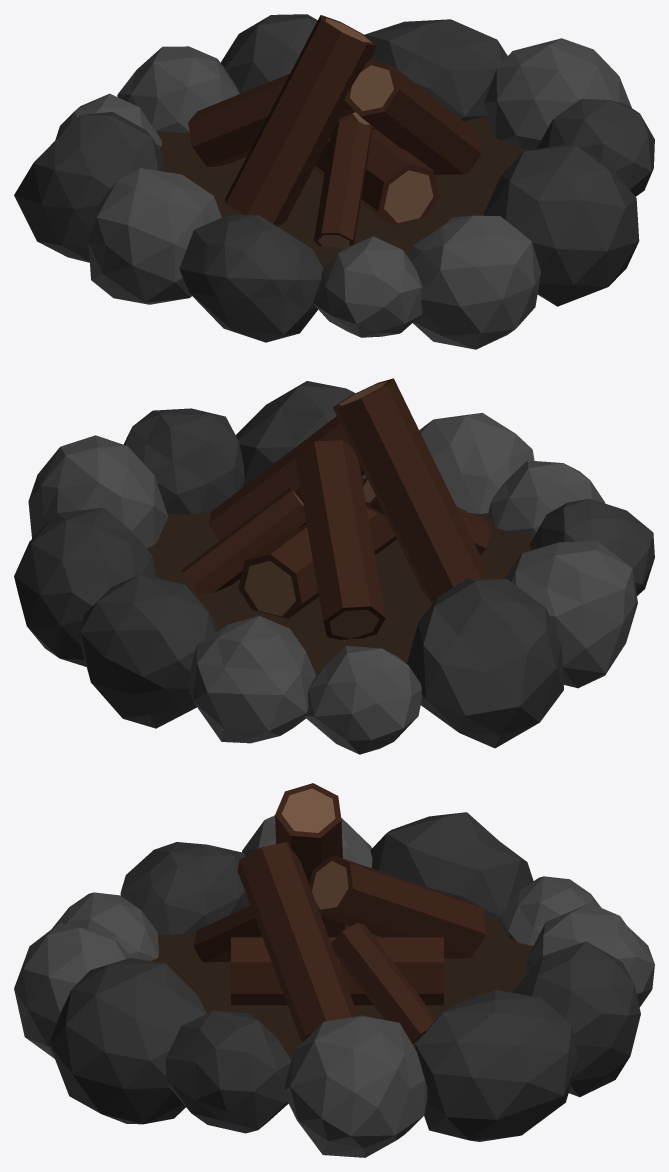
The model's file is Campfire.fbx.
The picture shows the model from 3 angles, top to bottom: view 1: azimuth 30°, elevation 25°; view 2: azimuth 150°, elevation 25°; view 3: azimuth 270°, elevation 25°; orthographic projection. The views are drawn at different scales.
Parts seen in each view (by area): view 1: Icosphere.001, Icosphere, Cylinder.002, Icosphere.006, Icosphere.007, Icosphere.008, Circle, Icosphere.004, Icosphere.005, Icosphere.003, Cylinder.003, Icosphere.010 (+6 smaller); view 2: Icosphere.008, Cylinder.002, Icosphere.011, Circle, Icosphere.005, Icosphere.010, Cylinder.001, Icosphere.007, Icosphere.004, Icosphere.009, Icosphere.002, Icosphere (+7 smaller); view 3: Icosphere.005, Icosphere.001, Icosphere.004, Icosphere.002, Cylinder.003, Icosphere.011, Icosphere.008, Cylinder.001, Circle, Icosphere.006, Icosphere, Cylinder (+7 smaller).
Part boxes in pixels (box(x1,y1,x2,y2)): Icosphere.001: box(483, 144, 639, 306); Icosphere: box(407, 215, 541, 349); Cylinder.002: box(225, 15, 377, 226); Icosphere.006: box(179, 215, 323, 342); Icosphere.007: box(88, 168, 221, 304); Icosphere.008: box(14, 112, 163, 262); Circle: box(156, 115, 530, 268); Icosphere.004: box(484, 38, 631, 150); Icosphere.005: box(365, 19, 507, 121); Icosphere.003: box(313, 236, 422, 337); Cylinder.003: box(344, 59, 481, 174); Icosphere.010: box(117, 46, 239, 132); Icosphere.008: box(407, 578, 563, 748); Cylinder.002: box(332, 378, 488, 603); Icosphere.011: box(80, 575, 217, 728); Circle: box(147, 508, 533, 675); Icosphere.005: box(14, 507, 157, 666); Icosphere.010: box(187, 616, 316, 743); Cylinder.001: box(295, 440, 385, 639); Icosphere.007: box(505, 541, 637, 688); Icosphere.004: box(28, 435, 168, 548); Icosphere.009: box(305, 646, 422, 754); Icosphere.002: box(123, 408, 244, 514); Icosphere: box(419, 413, 534, 513); Icosphere.005: box(415, 990, 577, 1141); Icosphere.001: box(49, 958, 206, 1124); Icosphere.004: box(284, 1015, 427, 1157); Icosphere.002: box(166, 1010, 291, 1133); Cylinder.003: box(237, 842, 357, 1042); Icosphere.011: box(511, 941, 640, 1097); Icosphere.008: box(370, 812, 533, 919); Cylinder.001: box(309, 855, 486, 958); Circle: box(151, 903, 533, 1060); Icosphere.006: box(120, 842, 248, 934); Icosphere: box(14, 923, 130, 1058); Cylinder: box(231, 937, 443, 1005).
Size of the model in its own units: 522 by 229 by 512.
